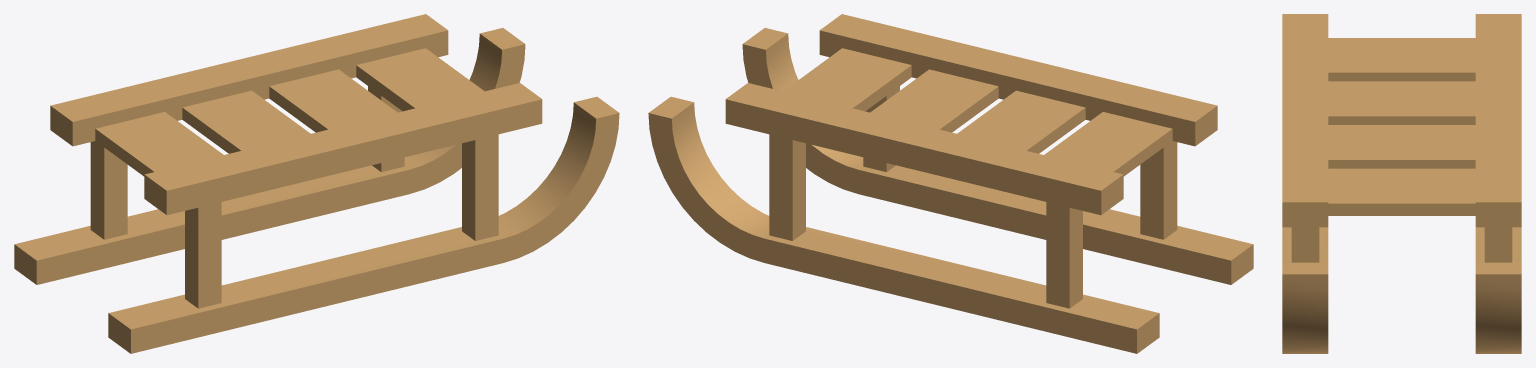
File: sled.fbx
3 renders of one model, left to right at view 1: azimuth 30°, elevation 25°; view 2: azimuth 150°, elevation 25°; view 3: azimuth 270°, elevation 25°, orthographic. The views are drawn at different scales.
Parts seen in each view (by area): view 1: sled; view 2: sled; view 3: sled.
Part boxes in pixels (x1,y1,x2,y2): sled: (14, 14, 619, 353); sled: (648, 14, 1253, 353); sled: (1282, 14, 1521, 353).
Bounding box in the file's own units: 6.3 × 1.9 × 2.6.
